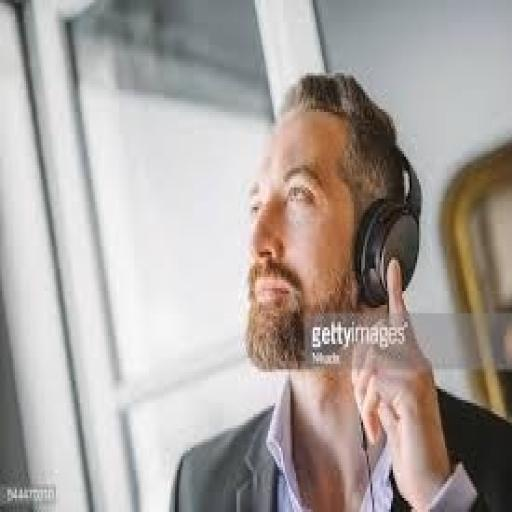listening_to_music: (166, 67, 510, 509)
